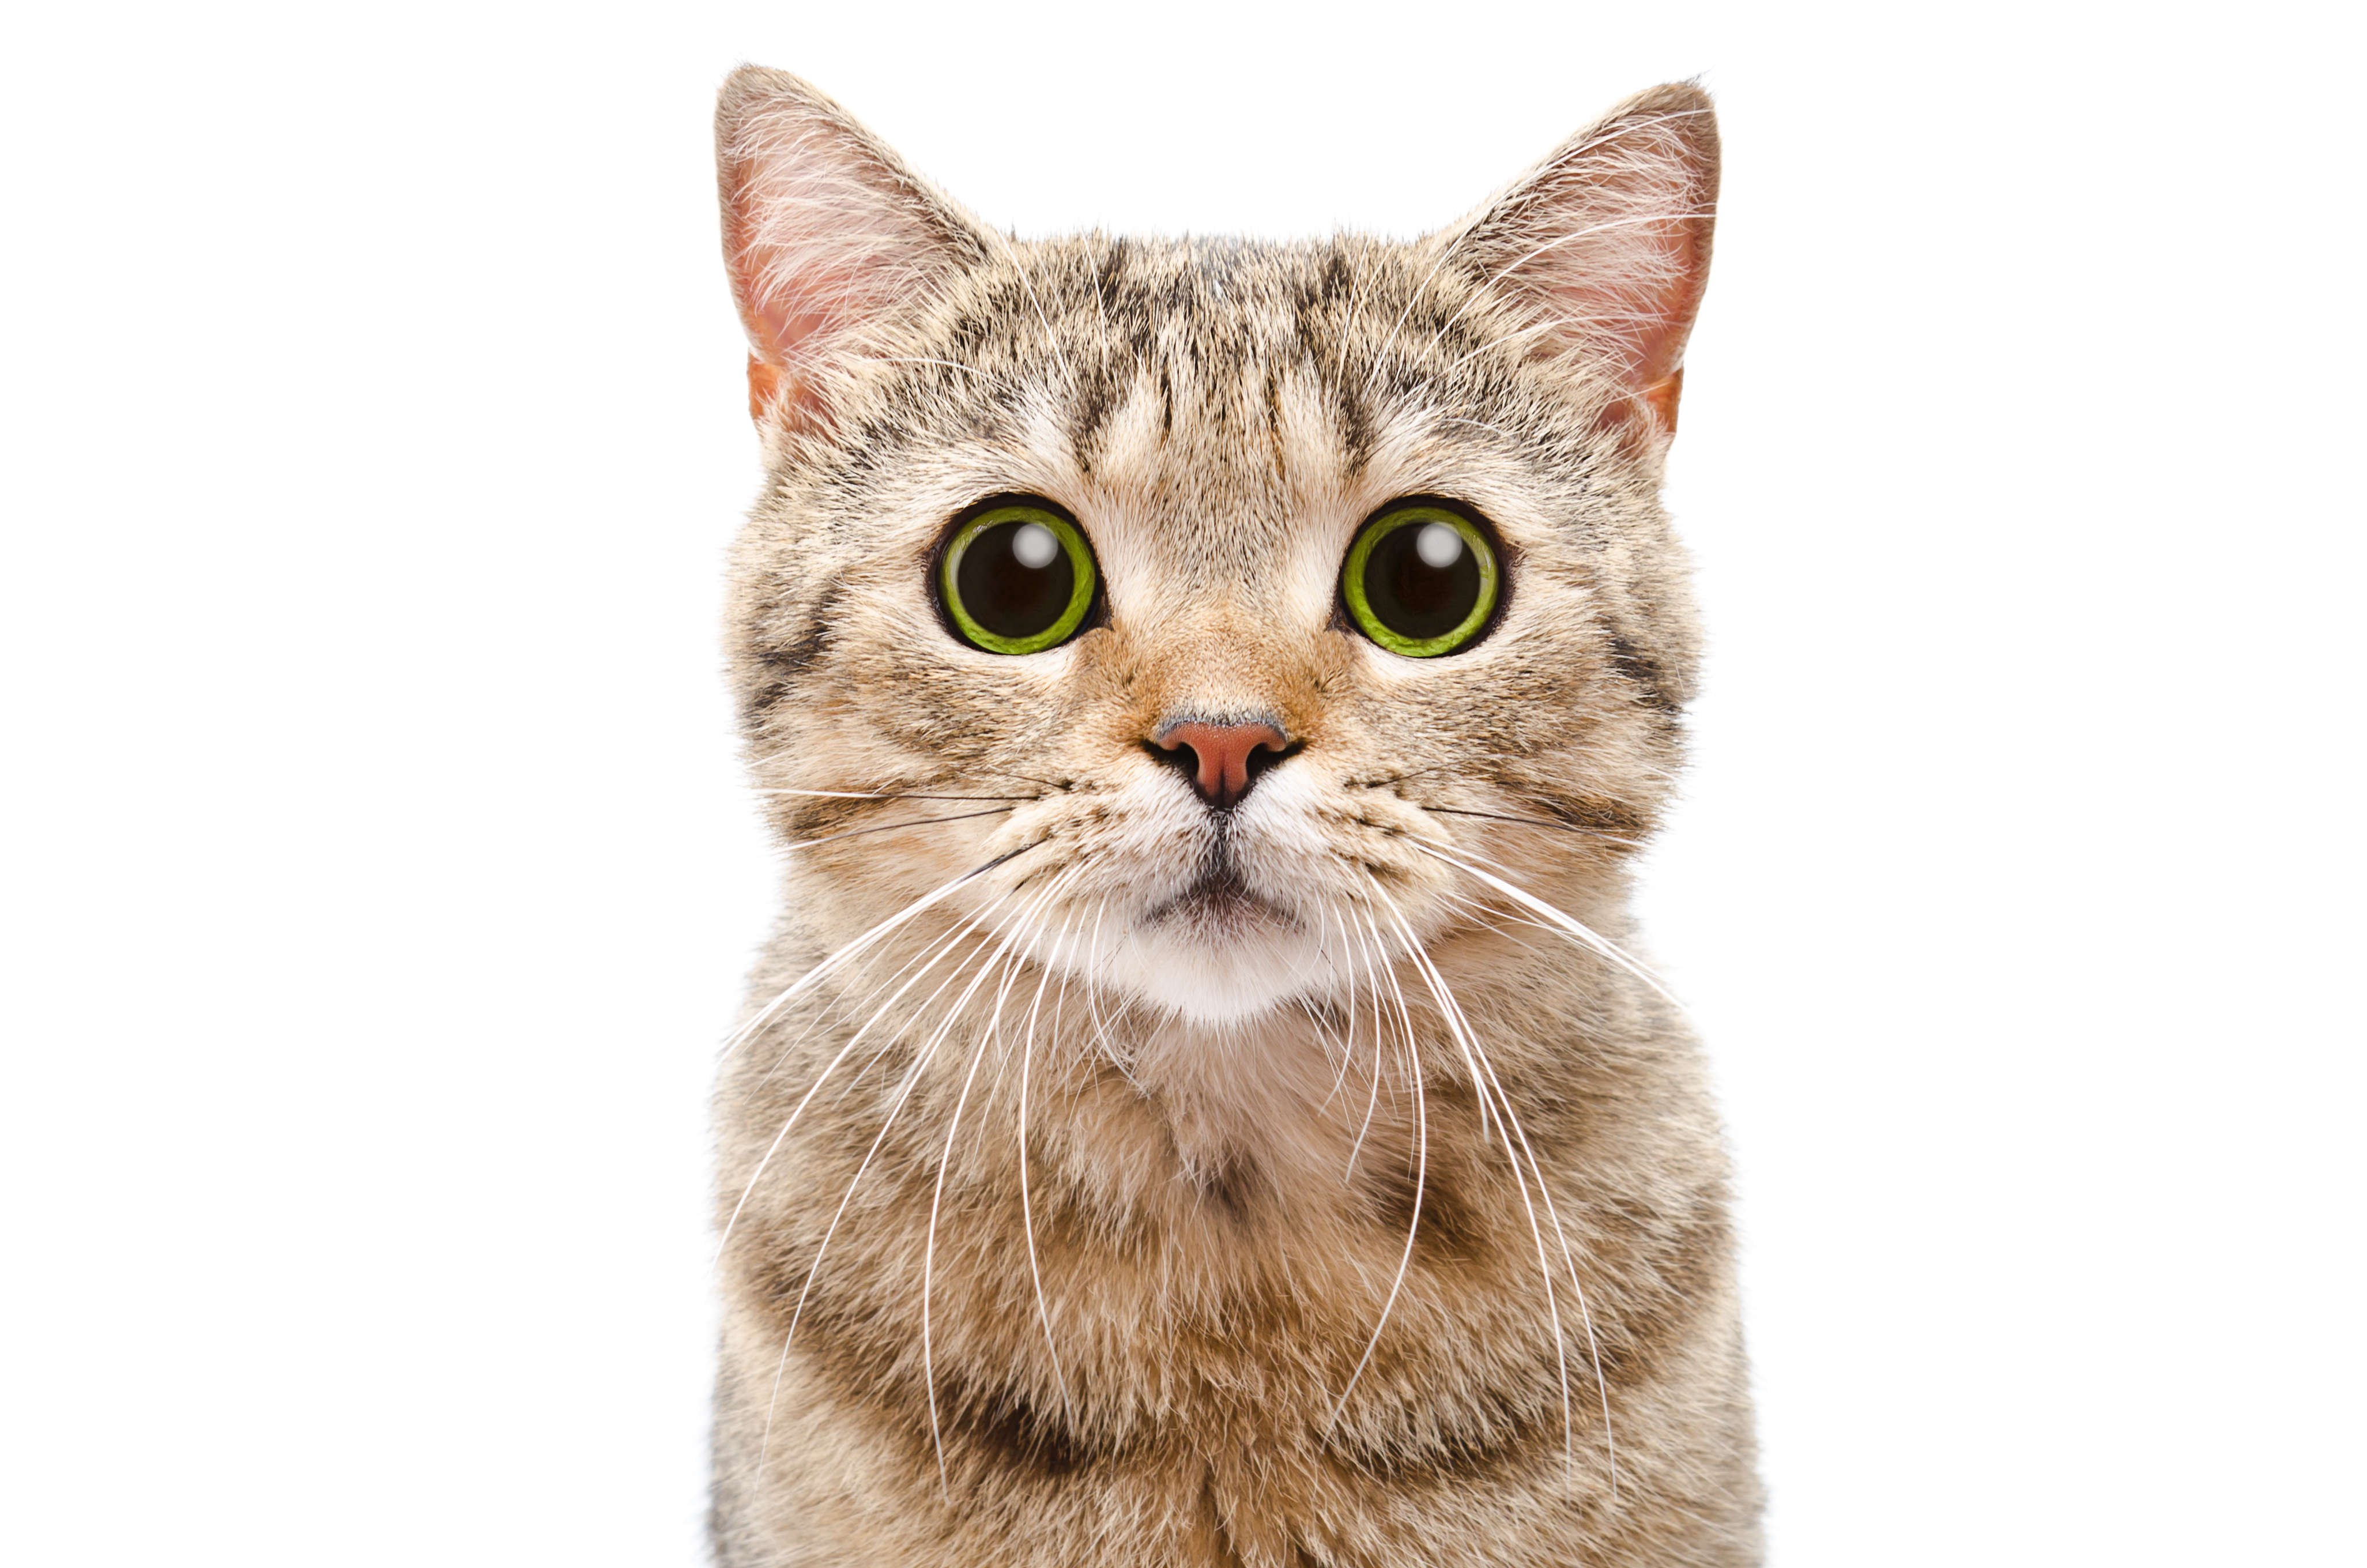cat: (656, 49, 1875, 1564)
